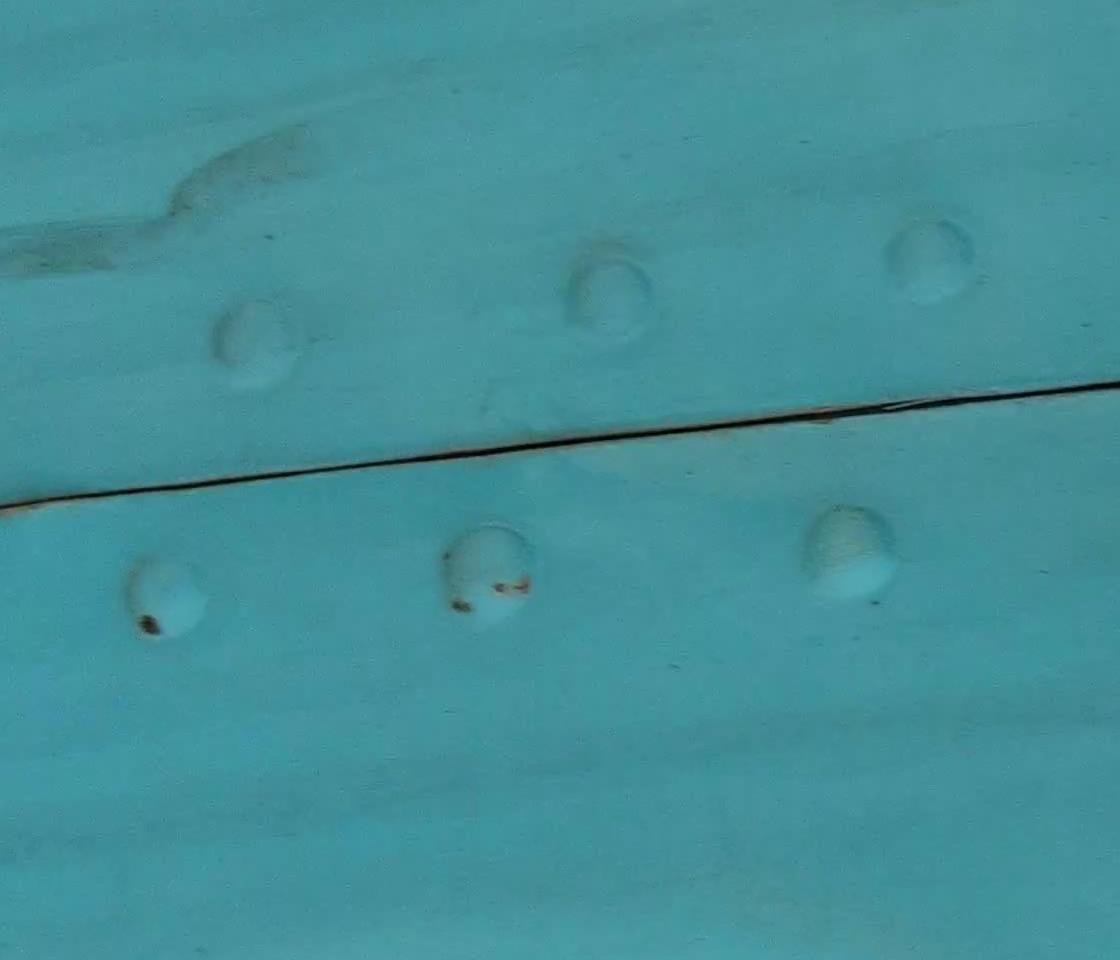scratch: (493, 573, 543, 602), (132, 609, 164, 644), (447, 596, 474, 620)
